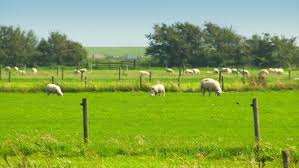sheep: (200, 77, 224, 96), (44, 82, 65, 97), (149, 84, 168, 97), (236, 67, 249, 78), (258, 68, 269, 80), (137, 70, 151, 78), (273, 66, 283, 74), (29, 66, 38, 74), (192, 67, 202, 74), (221, 67, 231, 74), (78, 68, 88, 74), (165, 68, 175, 74), (212, 67, 220, 74), (230, 67, 237, 75), (184, 68, 193, 74), (267, 66, 274, 73)
